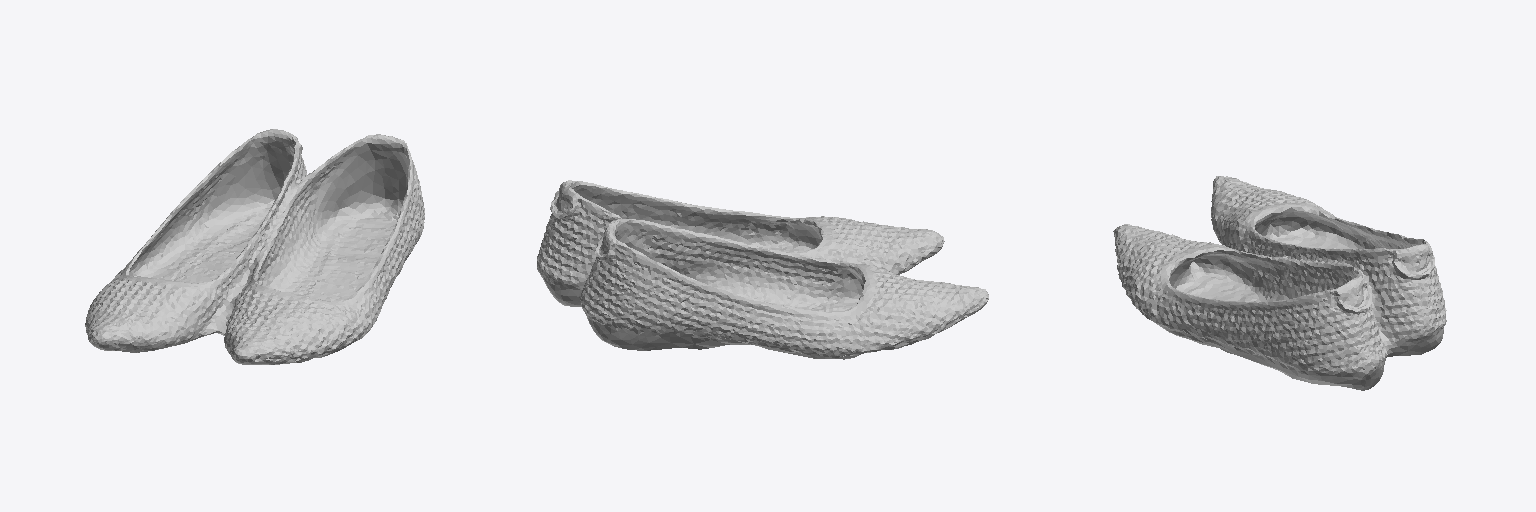
File: ayashoes.obj
3 views of the same model, side by side, from view 1: azimuth 30°, elevation 25°; view 2: azimuth 150°, elevation 25°; view 3: azimuth 270°, elevation 25° (orthographic).
Visible parts, largest first — view 1: submesh; view 2: submesh; view 3: submesh.
Boxes of the visible parts, x1,y1,x2,y2 form: submesh: [85, 129, 424, 364]; submesh: [537, 180, 988, 359]; submesh: [1113, 176, 1446, 390].
Size of the model in its own units: 0.3111 by 0.0855 by 0.234.